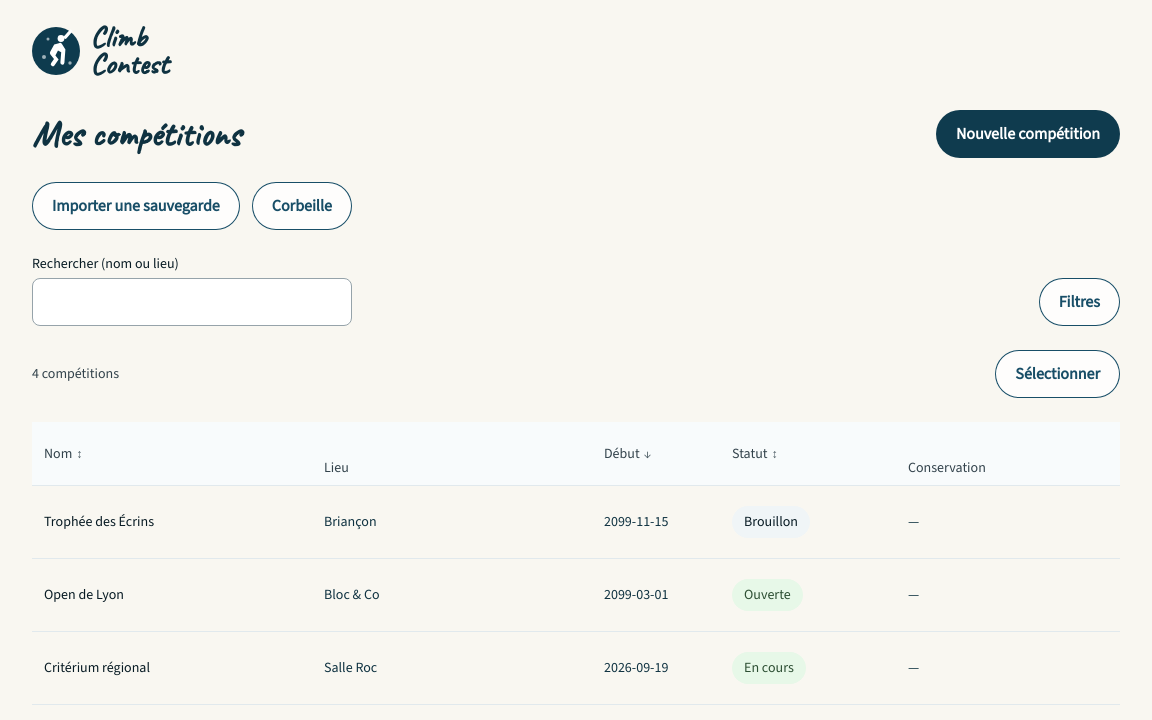
Test: CompetitionList › mise à la corbeille › « Tout sélectionner » ne prend pas les compétitions en cours
Click the button "Sélectionner" at (1058, 374), box left=995, top=350, right=1120, bottom=398
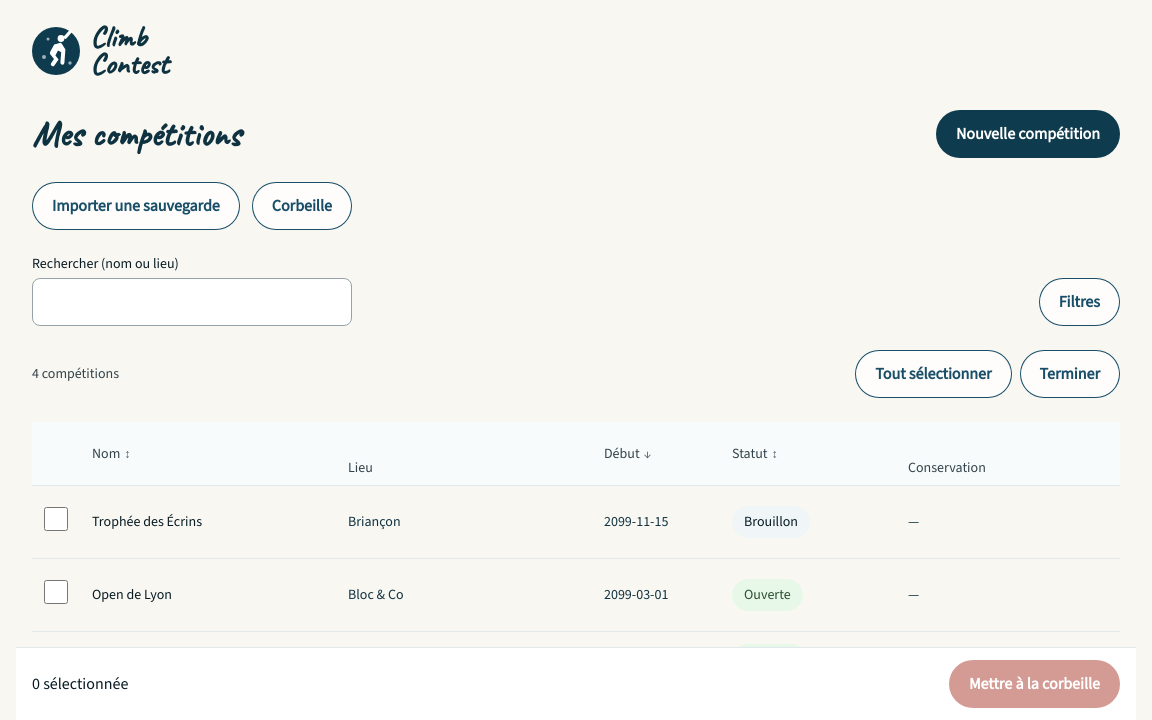
Click the button "Tout sélectionner" at (933, 374), box left=855, top=350, right=1012, bottom=398
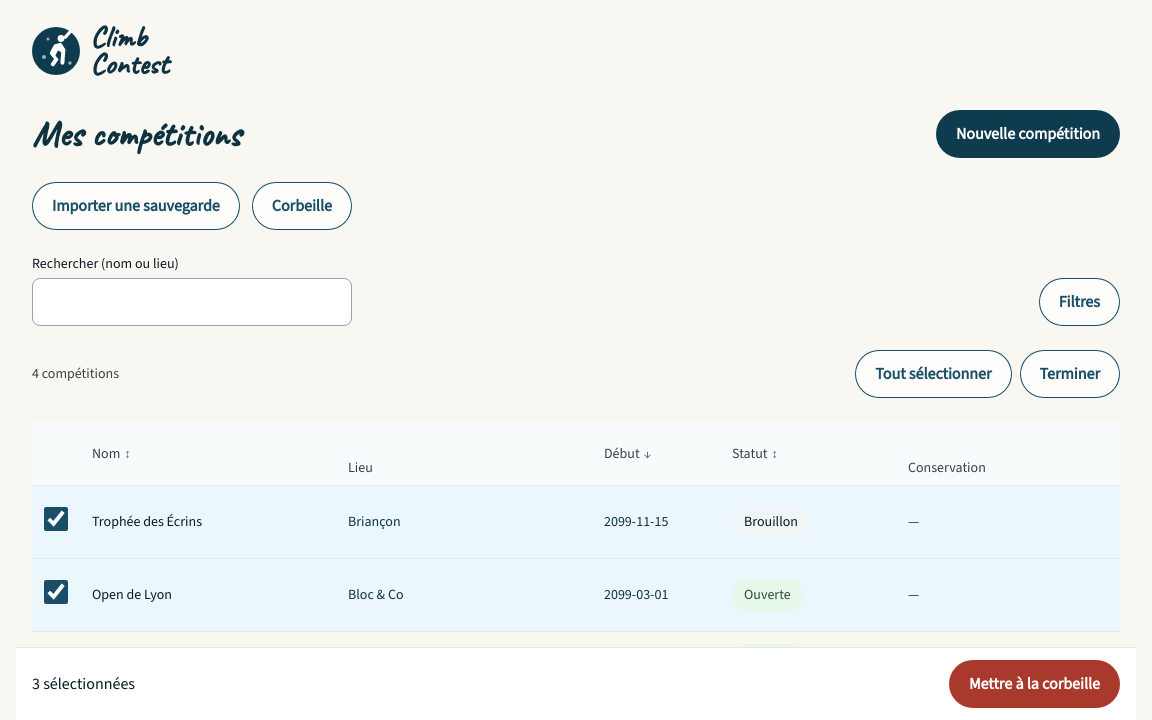
Expected: the text "3 sélectionnées" is shown, left=32, top=672, right=135, bottom=696
